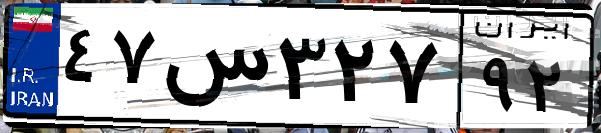2: (330, 28, 385, 110), (525, 38, 570, 115)
3: (270, 28, 330, 110)
4: (57, 26, 110, 100)
7: (385, 28, 445, 110), (110, 28, 158, 98)
9: (475, 38, 525, 113)
س: (158, 20, 270, 120)
